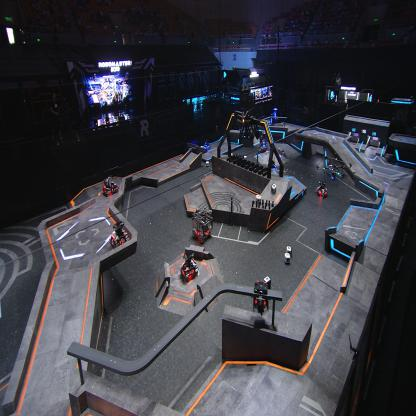car: (192, 206, 214, 241), (110, 219, 130, 248), (180, 251, 198, 283), (102, 173, 119, 196), (315, 179, 328, 200), (259, 130, 268, 148), (268, 160, 277, 172), (203, 139, 210, 151)
